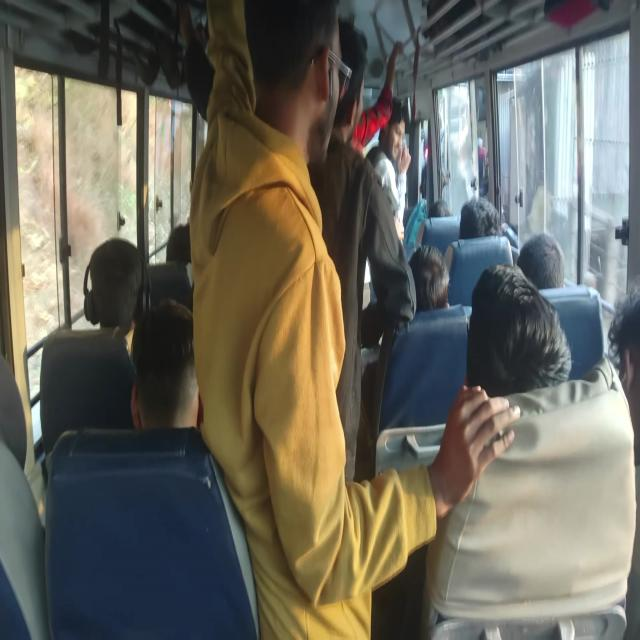person: (0, 333, 51, 635), (470, 278, 558, 412), (126, 299, 205, 439), (344, 8, 390, 204), (244, 0, 333, 94), (573, 301, 640, 398), (329, 50, 371, 172), (516, 232, 566, 294), (409, 243, 449, 312), (378, 99, 414, 174), (90, 248, 138, 303), (420, 216, 463, 262), (459, 196, 503, 240), (165, 222, 192, 264)
